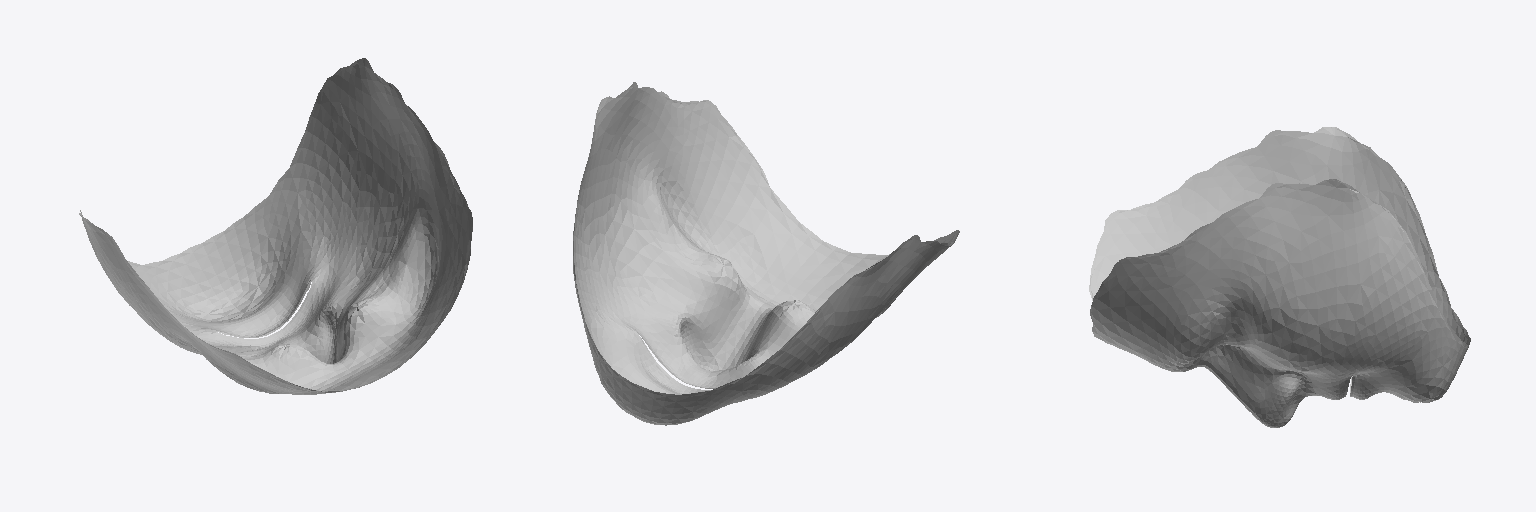
The model's file is face_gab_sfm2.obj.
3 renders of one model, left to right at view 1: azimuth 30°, elevation 25°; view 2: azimuth 150°, elevation 25°; view 3: azimuth 270°, elevation 25°, orthographic.
Size of the model in its own units: 162 by 149 by 180.